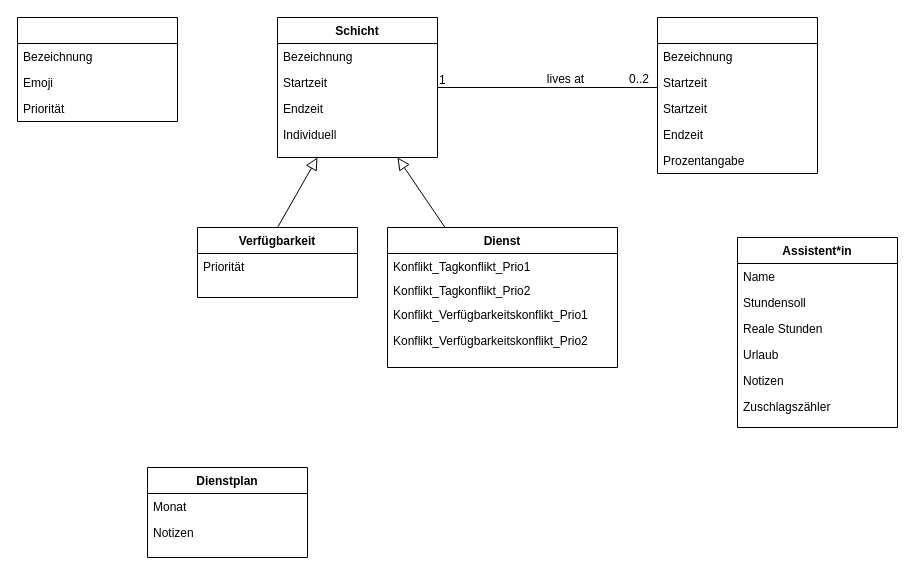
This 915x575 diagram has some shape labels left out. The box of each missing label's shape, as (x1, y1, x2, y2) in pixels:
Tag: (16, 16, 178, 122)
Zuschlag: (656, 16, 818, 174)
